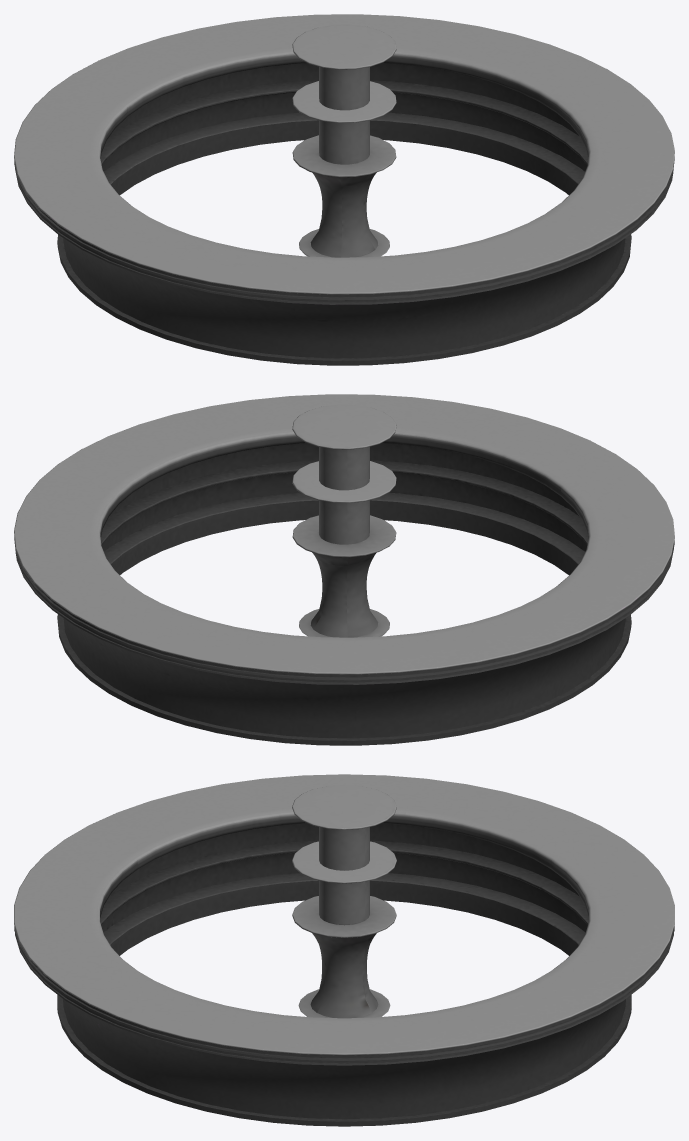
The model's file is bar.obj.
3 views of the same model, one above another, from view 1: azimuth 30°, elevation 25°; view 2: azimuth 150°, elevation 25°; view 3: azimuth 270°, elevation 25° (orthographic).
Visible parts, largest first — view 1: pPipe5; view 2: pPipe5; view 3: pPipe5.
Part boxes in pixels (x1,y1,x2,y2): pPipe5: [14, 14, 674, 365]; pPipe5: [14, 394, 674, 745]; pPipe5: [14, 774, 674, 1126].
Size of the model in its own units: 6.42 by 2.15 by 6.41.
Materials: 1 (1 with a texture image).
